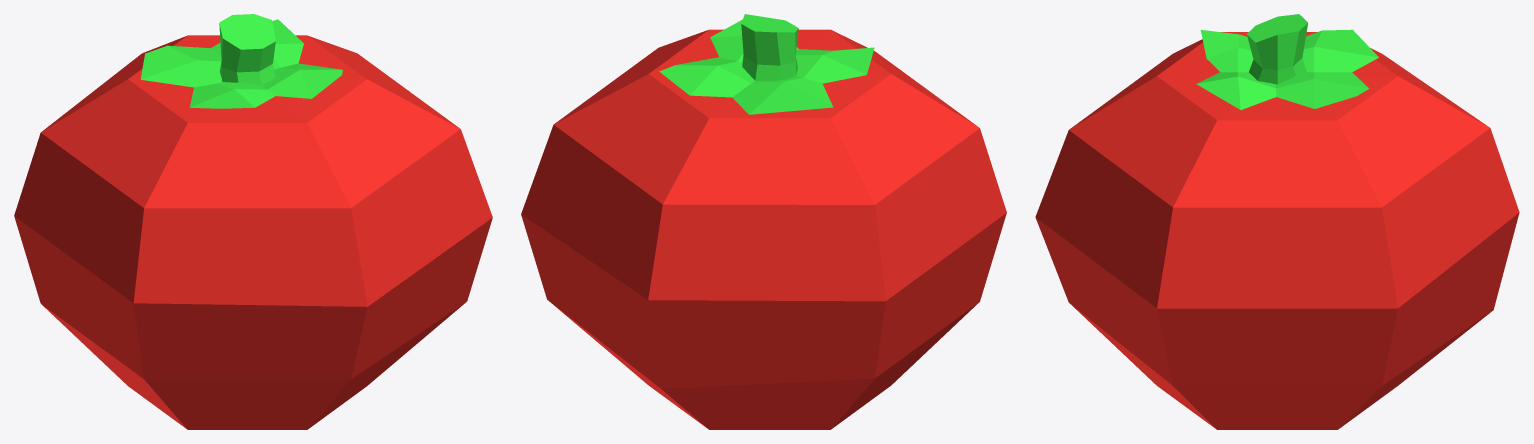
Rendered from tomato.glb.
The picture shows the model from 3 angles, left to right: view 1: azimuth 30°, elevation 25°; view 2: azimuth 150°, elevation 25°; view 3: azimuth 270°, elevation 25°; orthographic projection.
Visible parts, largest first — view 1: Sphere; view 2: Sphere; view 3: Sphere.
Part boxes in pixels (left/top/right/bottom): Sphere: left=14, top=14, right=492, bottom=429; Sphere: left=521, top=14, right=1006, bottom=429; Sphere: left=1035, top=14, right=1519, bottom=429.
Bounding box in the file's own units: 0.3473 × 0.3326 × 0.4018.
1 material, 1 textured.
